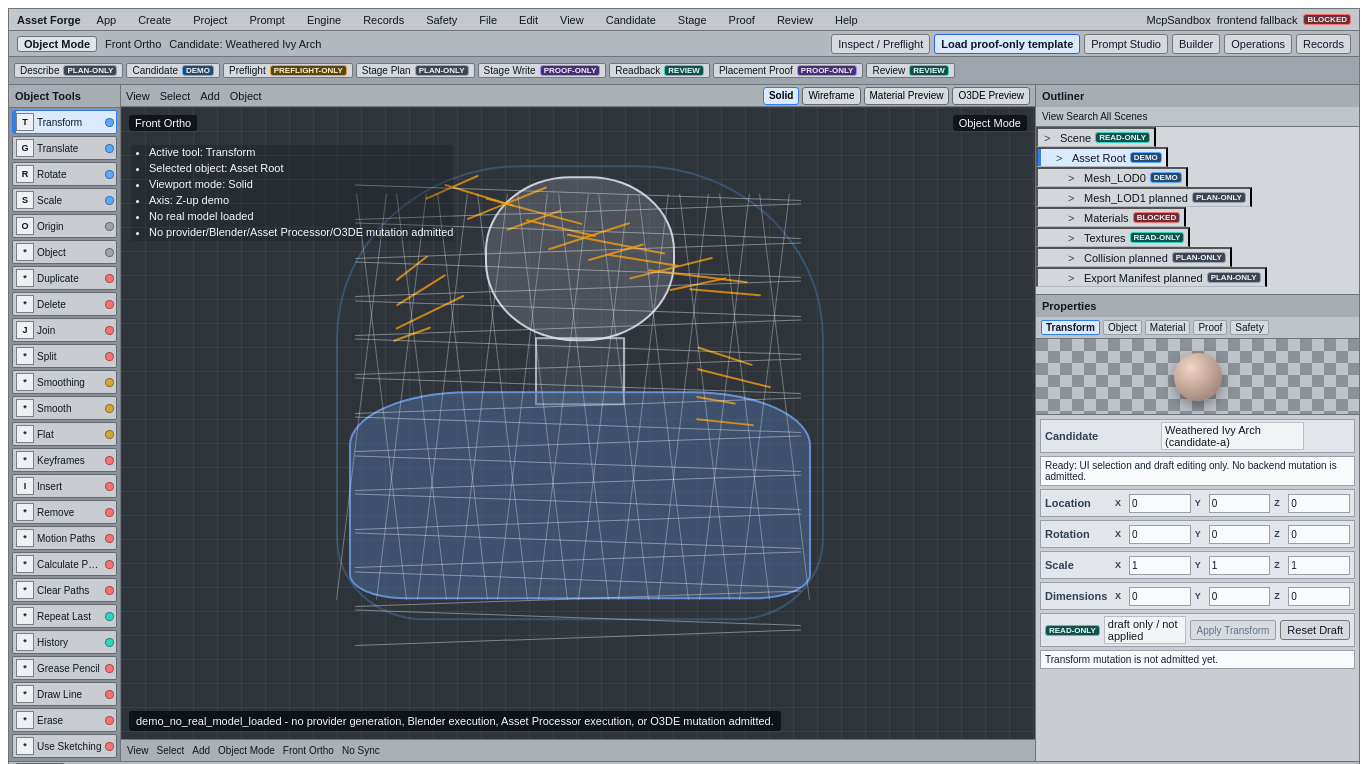
Test: AssetForgeBlenderCockpit › selects outliner objects and updates the inspector object tab
Click the button "> Mesh_LOD0 demo" at (1112, 177), box 1036,167 -> 1188,187
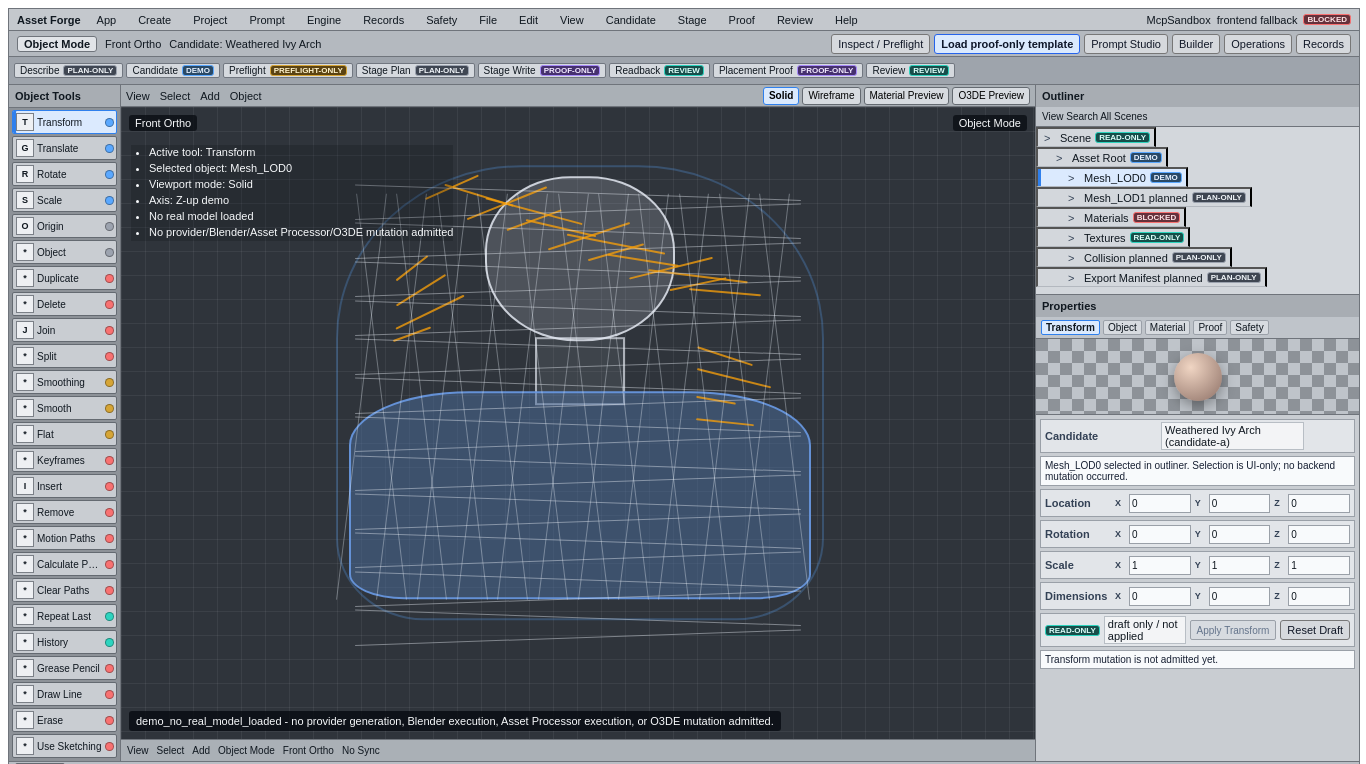
Now the list item "Selected object: Mesh_LOD0" is shown, box 149,162 -> 292,174
Click the button "Object" at (1122, 328), box 1103,320 -> 1142,335
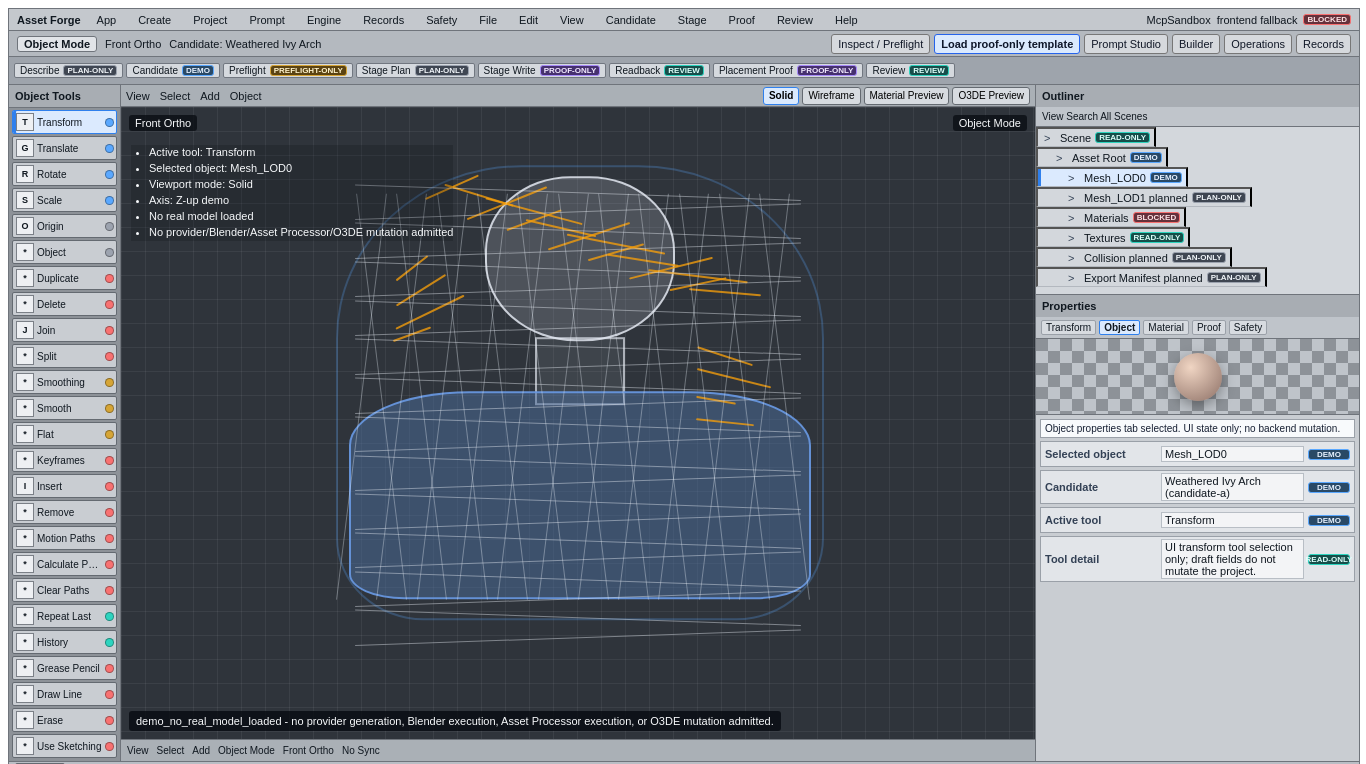
Now the 2nd text "Mesh_LOD0" is shown, box 1161,446 -> 1304,462
Now the text "Selected object" is shown, box 1045,448 -> 1126,460
